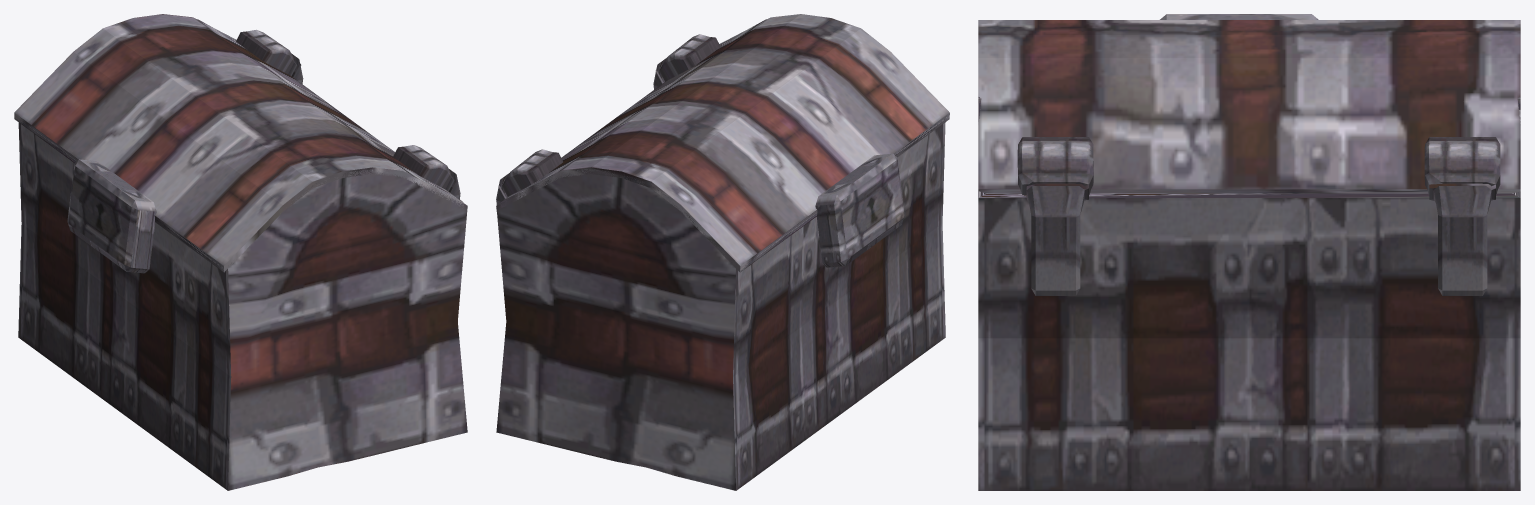
File: ChestAnimated.glb
3 views of the same model, side by side, from view 1: azimuth 30°, elevation 25°; view 2: azimuth 150°, elevation 25°; view 3: azimuth 270°, elevation 25° (orthographic). The views are drawn at different scales.
Visible parts, largest first — view 1: ChestGold; view 2: ChestGold; view 3: ChestGold.
Part boxes in pixels (bbox=[...]): ChestGold: bbox=[14, 14, 467, 490]; ChestGold: bbox=[496, 14, 949, 490]; ChestGold: bbox=[978, 14, 1520, 490].
Bounding box in the file's own units: 4.68 × 4.57 × 5.96.
Materials: 2 (2 with a texture image).
